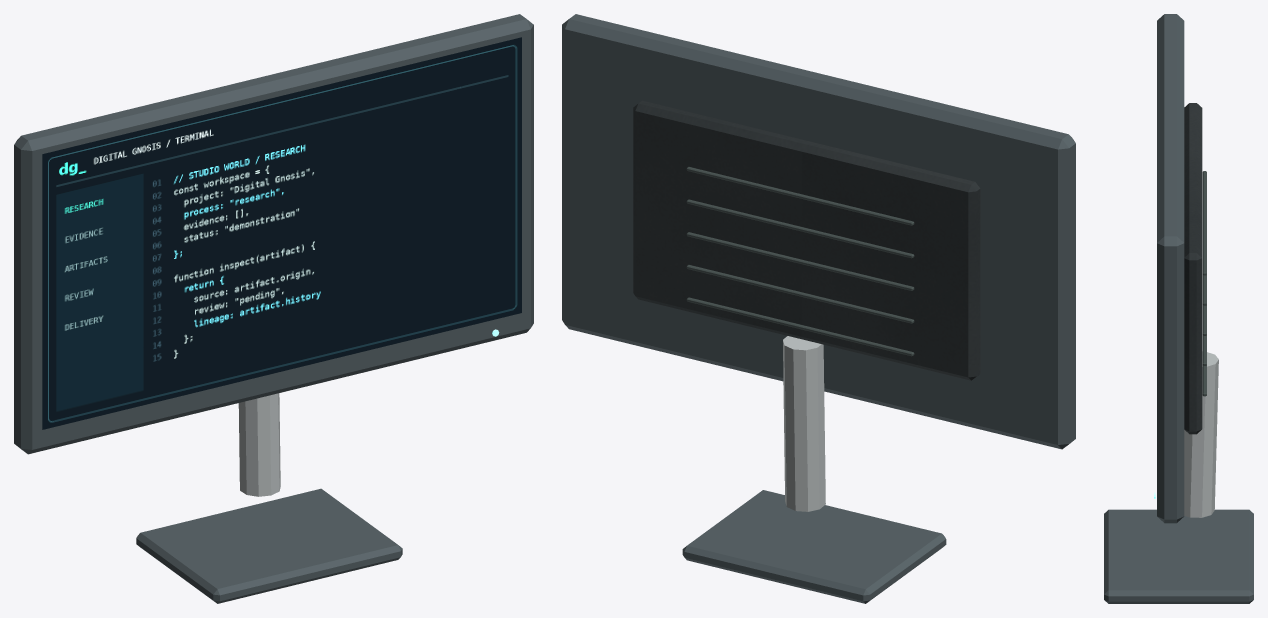
The model's file is Monitor.glb.
3 renders of one model, left to right at view 1: azimuth 30°, elevation 25°; view 2: azimuth 150°, elevation 25°; view 3: azimuth 270°, elevation 25°, orthographic. The views are drawn at different scales.
Visible parts, largest first — view 1: Monitor__Screen_terminal__screen_main, Monitor__BlackenedSteel__mesh, Monitor__BrushedHardware__mesh; view 2: Monitor__BlackenedSteel__mesh, Monitor__Powdercoat__mesh, Monitor__BrushedHardware__mesh, Monitor__Rubber__mesh; view 3: Monitor__BlackenedSteel__mesh, Monitor__Powdercoat__mesh, Monitor__BrushedHardware__mesh, Monitor__Rubber__mesh.
Boxes of the visible parts, x1=… form: Monitor__Screen_terminal__screen_main: x1=42, y1=37, x2=521, y2=429; Monitor__BlackenedSteel__mesh: x1=14, y1=14, x2=533, y2=603; Monitor__BrushedHardware__mesh: x1=238, y1=393, x2=280, y2=496; Monitor__BlackenedSteel__mesh: x1=562, y1=14, x2=1075, y2=603; Monitor__Powdercoat__mesh: x1=633, y1=100, x2=980, y2=380; Monitor__BrushedHardware__mesh: x1=783, y1=336, x2=825, y2=511; Monitor__Rubber__mesh: x1=686, y1=167, x2=914, y2=356; Monitor__BlackenedSteel__mesh: x1=1104, y1=14, x2=1253, y2=603; Monitor__Powdercoat__mesh: x1=1184, y1=103, x2=1202, y2=434; Monitor__BrushedHardware__mesh: x1=1184, y1=351, x2=1218, y2=517; Monitor__Rubber__mesh: x1=1202, y1=171, x2=1206, y2=396.
Size of the model in its own units: 0.65 by 0.581 by 0.18.
6 materials, 2 textured.
